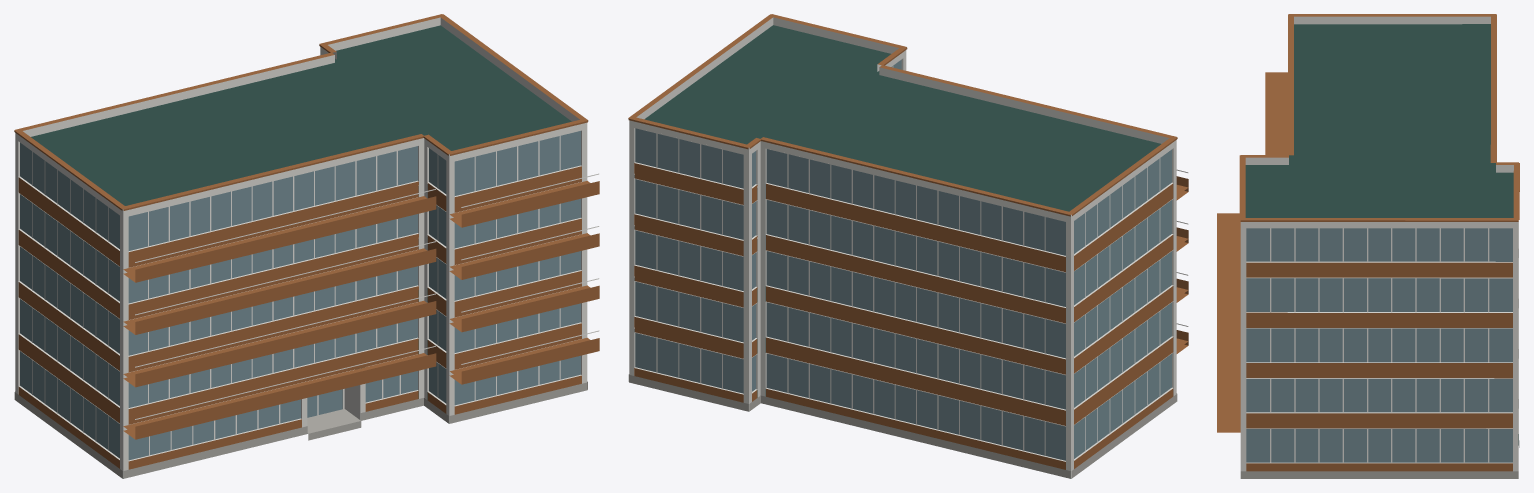
3 views of the same model, side by side, from view 1: azimuth 30°, elevation 25°; view 2: azimuth 150°, elevation 25°; view 3: azimuth 270°, elevation 25° (orthographic). The views are drawn at different scales.
Visible parts, largest first — view 1: alps__glass, alps__roof, alps__spandrel, alps__trim, alps__wall, alps__parapet, alps__frame, alps__base; view 2: alps__glass, alps__roof, alps__spandrel, alps__wall, alps__frame, alps__parapet, alps__trim, alps__base; view 3: alps__glass, alps__roof, alps__spandrel, alps__trim, alps__wall, alps__frame, alps__parapet, alps__base.
Boxes of the visible parts, bbox=[...] form: alps__glass: bbox=[20, 131, 580, 460]; alps__roof: bbox=[31, 25, 571, 478]; alps__spandrel: bbox=[18, 166, 581, 469]; alps__trim: bbox=[14, 14, 599, 439]; alps__wall: bbox=[15, 52, 587, 478]; alps__parapet: bbox=[15, 17, 587, 216]; alps__frame: bbox=[32, 136, 599, 455]; alps__base: bbox=[14, 381, 587, 478]; alps__glass: bbox=[634, 59, 1171, 460]; alps__roof: bbox=[644, 25, 1160, 478]; alps__spandrel: bbox=[634, 163, 1173, 469]; alps__wall: bbox=[629, 55, 1176, 478]; alps__frame: bbox=[635, 66, 1188, 455]; alps__parapet: bbox=[629, 17, 1176, 222]; alps__trim: bbox=[628, 14, 1188, 353]; alps__base: bbox=[628, 374, 1177, 478]; alps__glass: bbox=[1246, 228, 1512, 462]; alps__roof: bbox=[1245, 24, 1518, 445]; alps__spandrel: bbox=[1246, 262, 1512, 471]; alps__trim: bbox=[1217, 14, 1519, 432]; alps__wall: bbox=[1240, 220, 1518, 471]; alps__frame: bbox=[1246, 228, 1512, 462]; alps__parapet: bbox=[1240, 16, 1518, 227]; alps__base: bbox=[1240, 440, 1519, 478].
Bounding box in the file's own units: 29.12 × 17.4 × 18.04.
